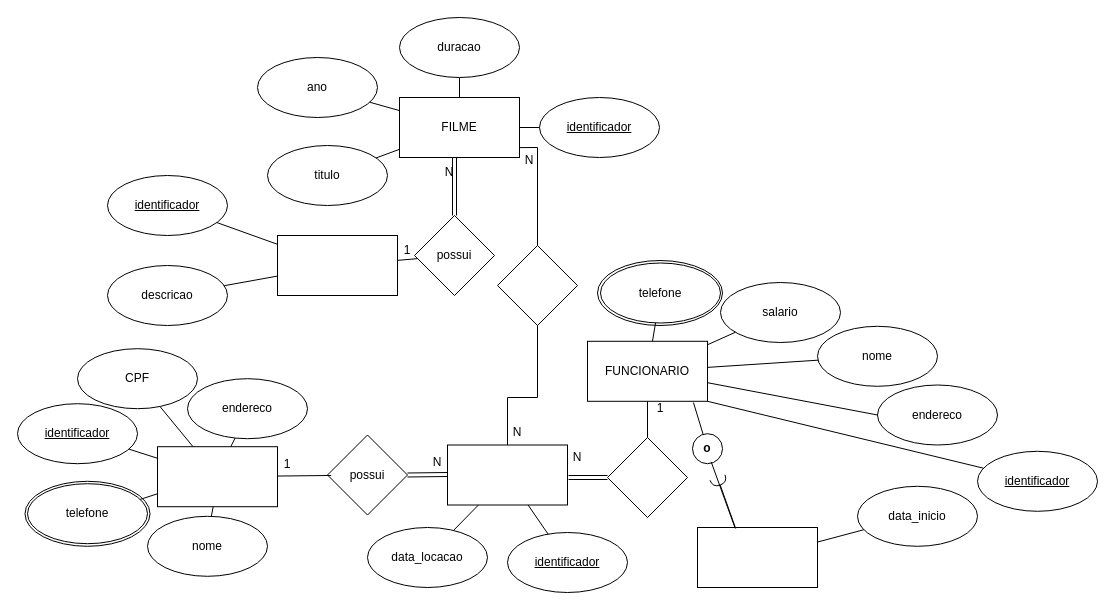
This 1115x610 diagram has some shape labels left out. The box of each missing label's shape, as (x1, y1, x2, y2) in pixels:
aluga: (496, 244, 578, 326)
CATEGORIA: (276, 234, 398, 296)
CLIENTE: (156, 446, 278, 507)
GERENTE: (696, 526, 818, 588)
LOCAÇÃO: (446, 444, 568, 505)
realiza: (606, 436, 688, 518)
